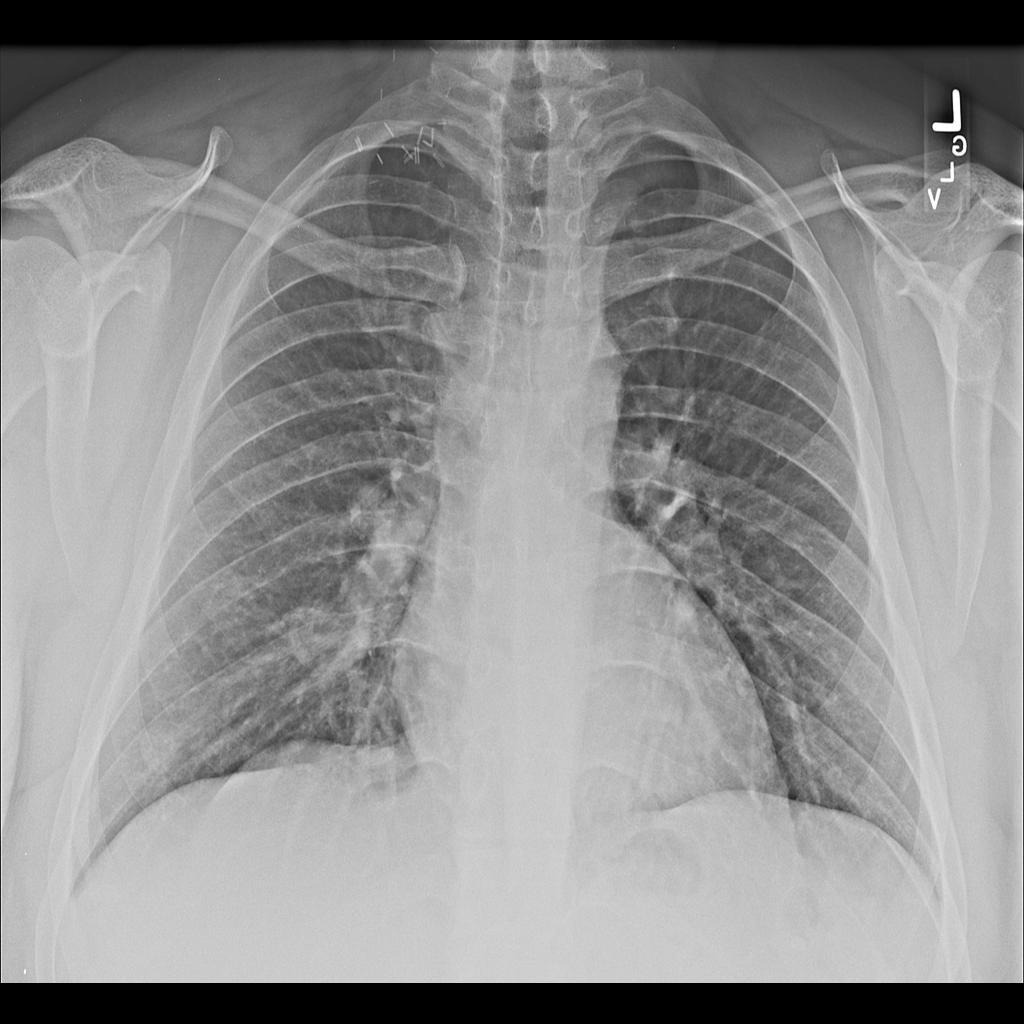Nodule: (265, 588, 348, 677), (132, 713, 194, 784)
